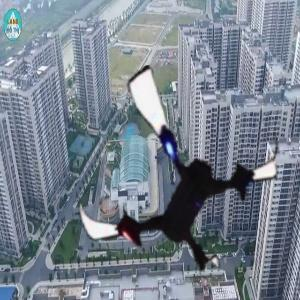drone: (63, 63, 288, 288)
